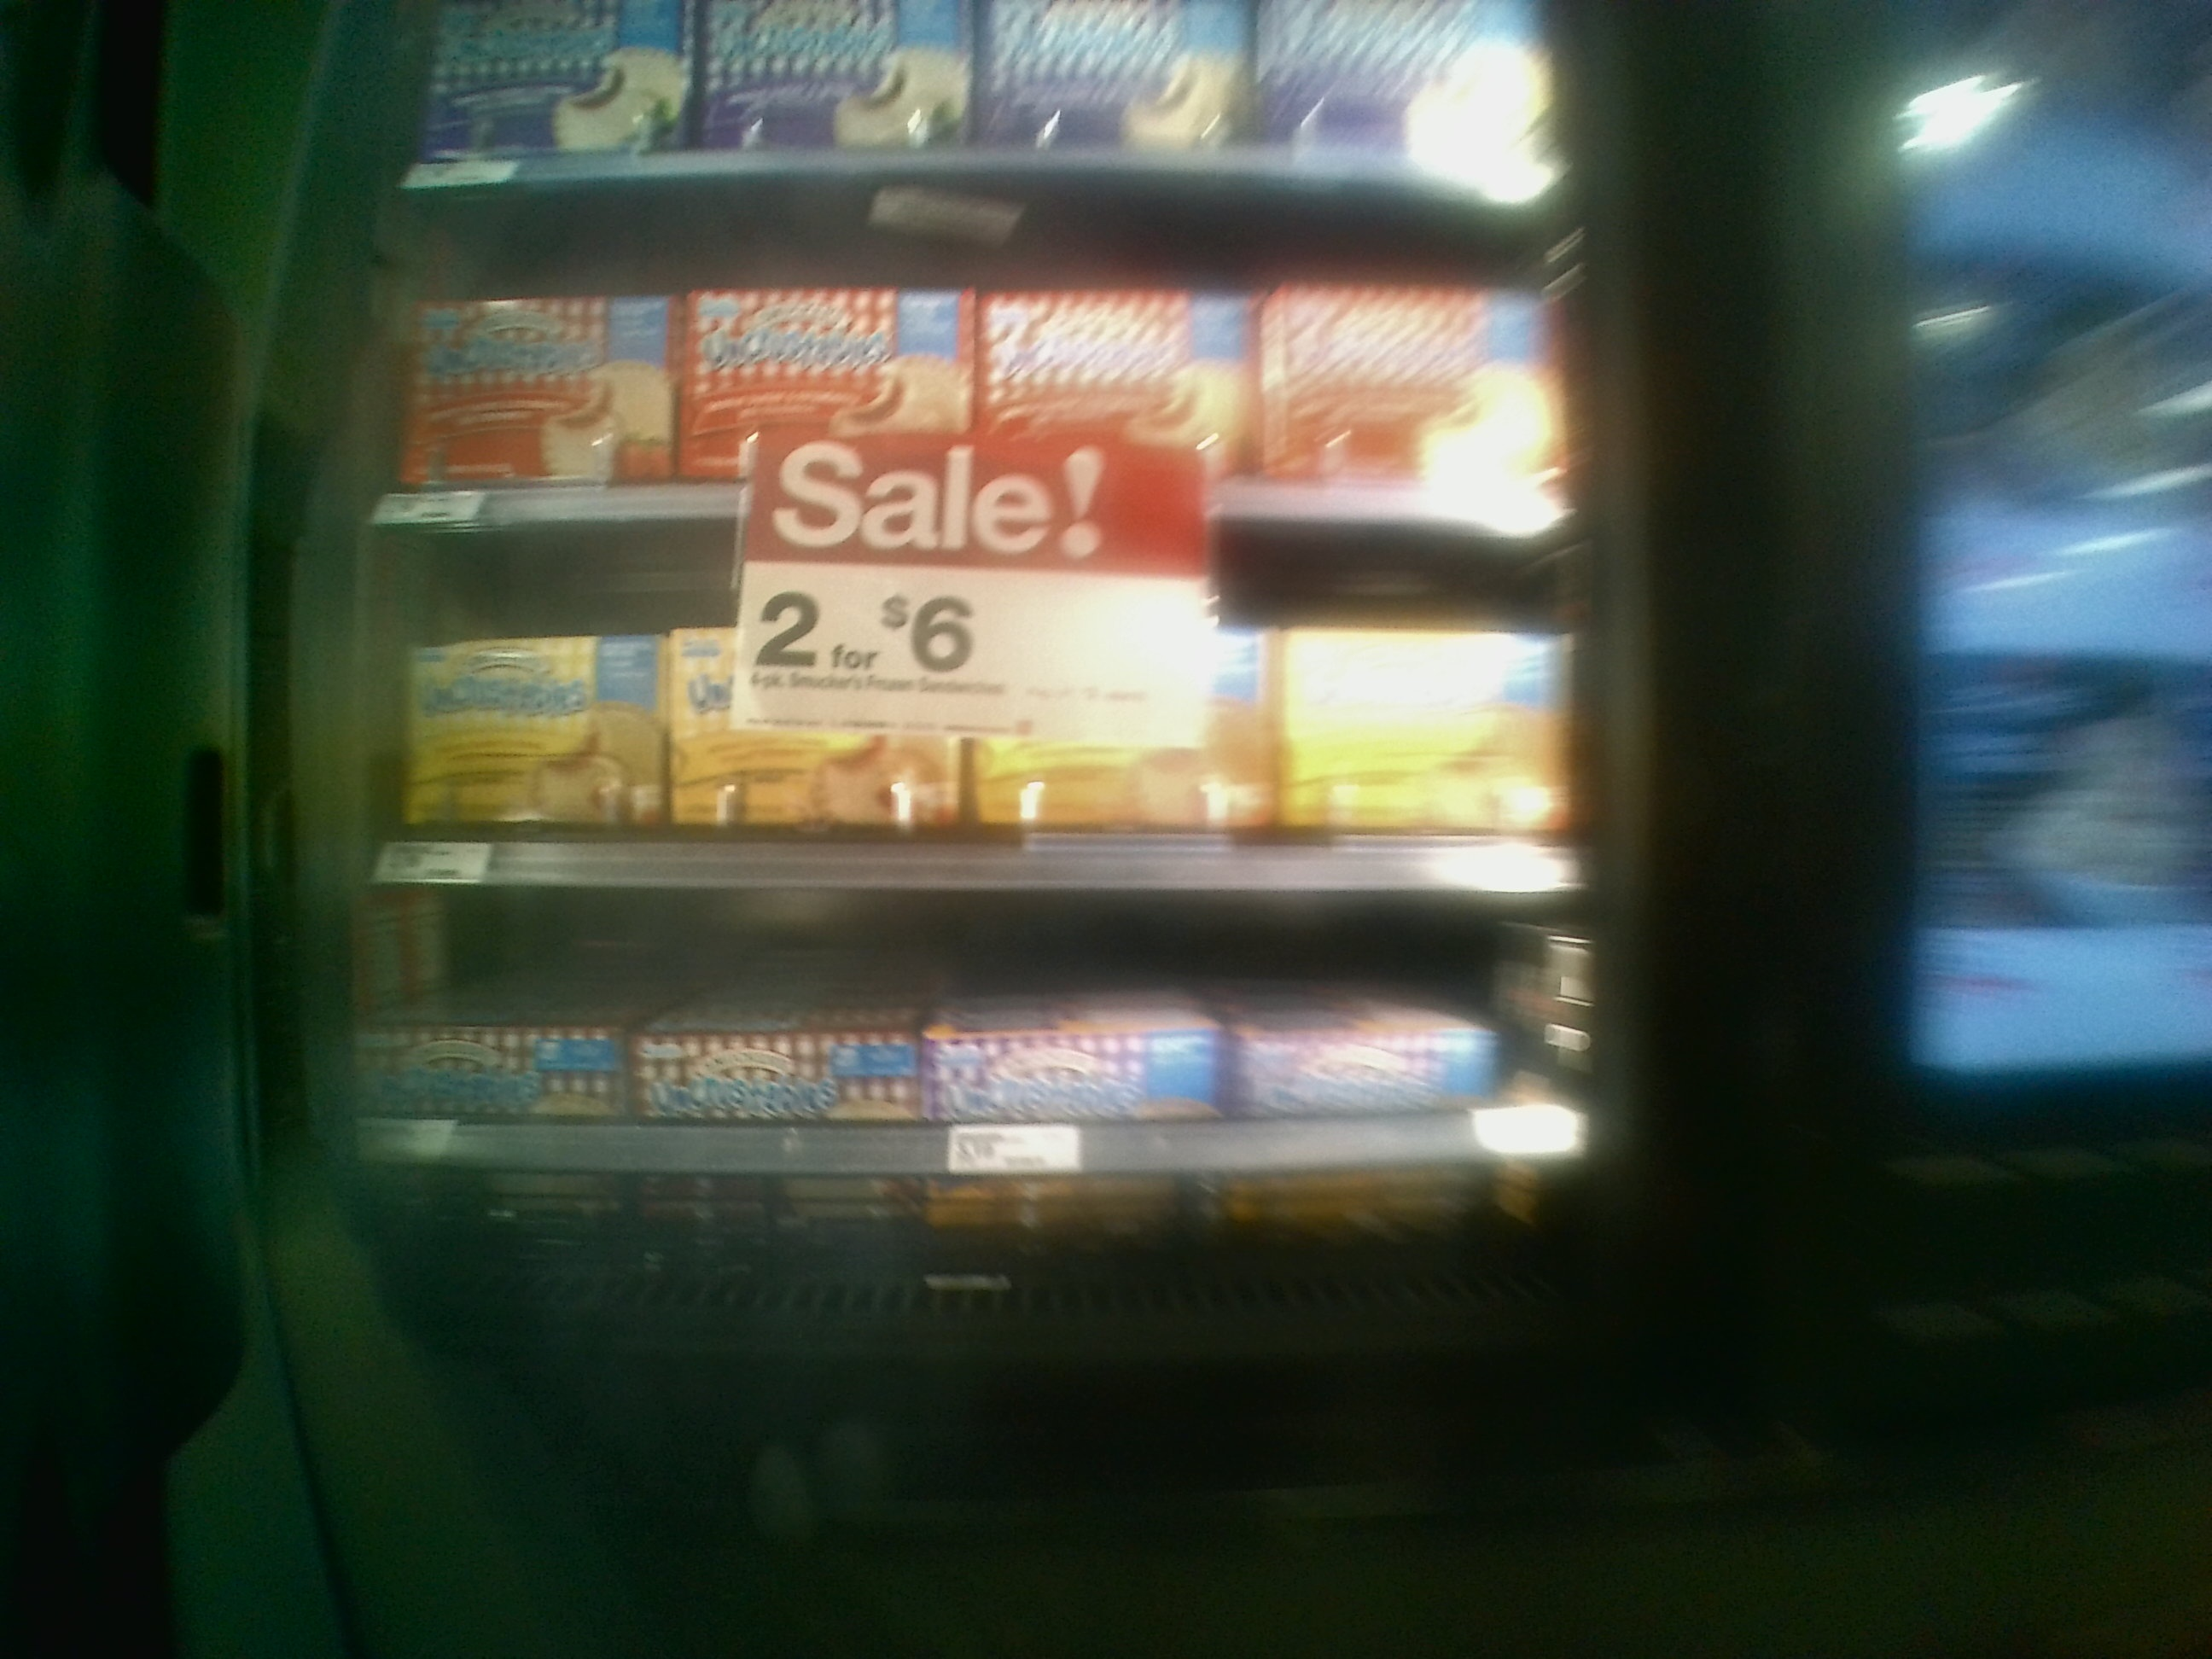shelf: (345, 861, 1592, 1300), (371, 188, 1587, 549), (355, 537, 1588, 889)
